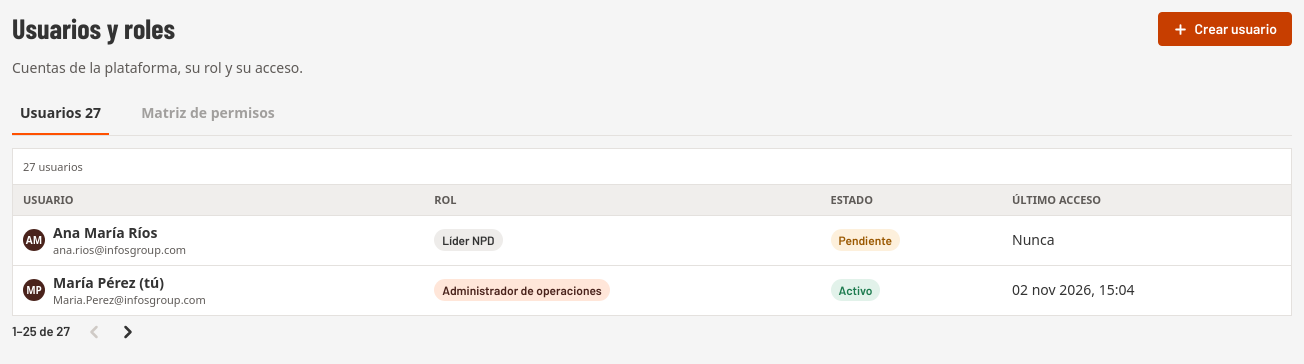
Test: UsuariosPage › requests the next page from the backend
Expected: the text "1–25 de 27" is shown, [12,324,76,339]
Click the button named "Página siguiente": (128, 332) [112,316,144,348]
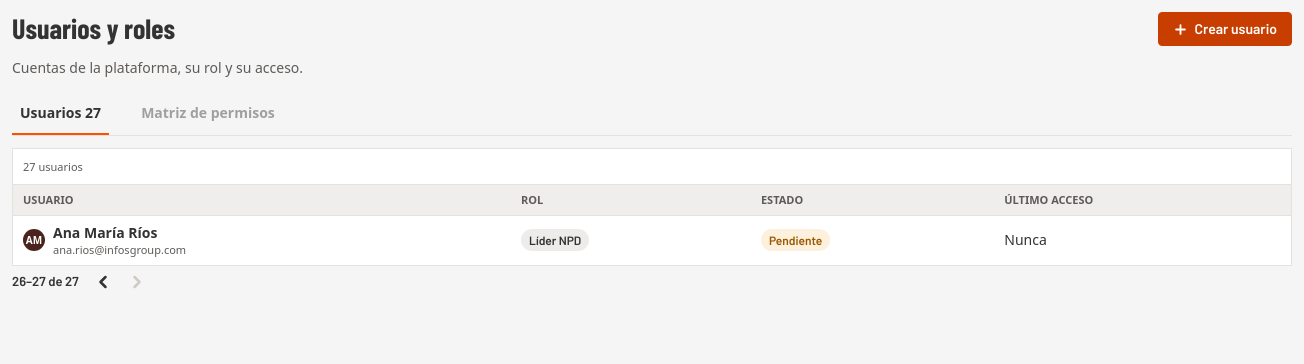
Now the text "26–27 de 27" is shown, box [12,274,85,289]
